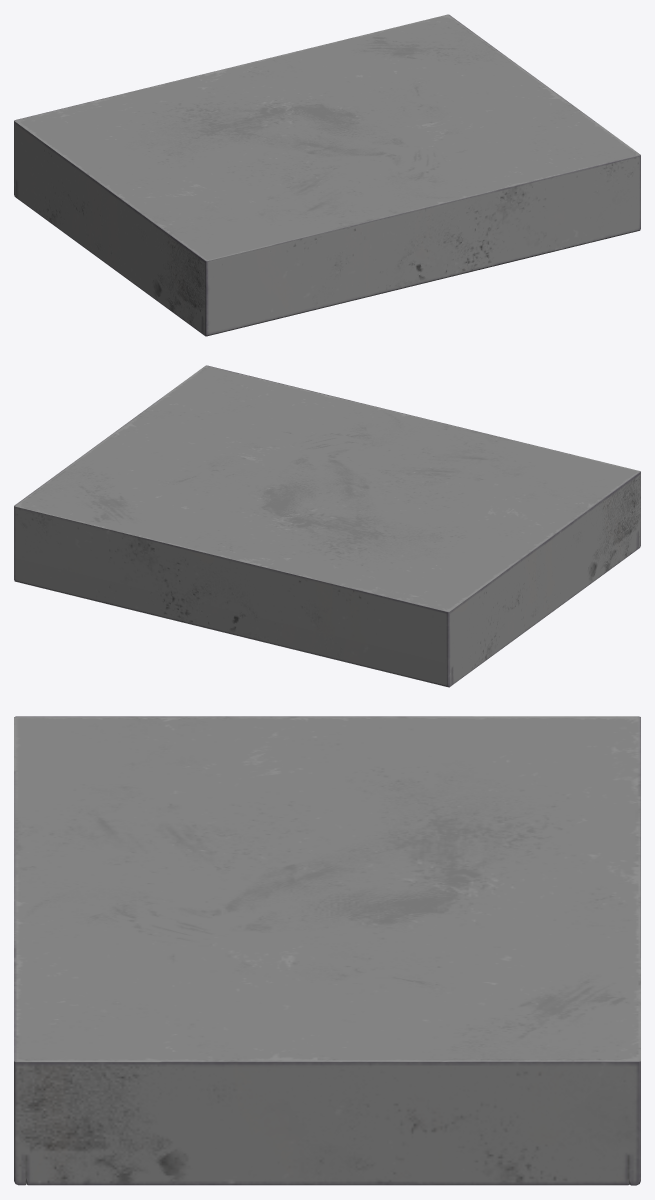
File: SM_CorridorRoofSet01.fbx
3 renders of one model, top to bottom at view 1: azimuth 30°, elevation 25°; view 2: azimuth 150°, elevation 25°; view 3: azimuth 270°, elevation 25°, orthographic. The views are drawn at different scales.
Parts seen in each view (by area): view 1: SM_CorridorRoofSet01_LOD0; view 2: SM_CorridorRoofSet01_LOD0; view 3: SM_CorridorRoofSet01_LOD0.
Boxes of the visible parts, <box> form: SM_CorridorRoofSet01_LOD0: <box>14,14,640,336</box>; SM_CorridorRoofSet01_LOD0: <box>14,365,640,687</box>; SM_CorridorRoofSet01_LOD0: <box>14,716,640,1185</box>.
Bounding box in the file's own units: 300 × 230 × 50.43.
Materials: 1 (1 with a texture image).
